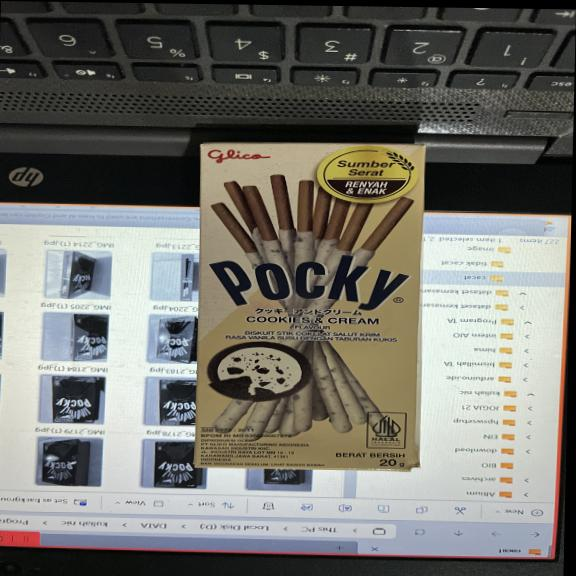Kertas: (192, 144, 420, 465)
